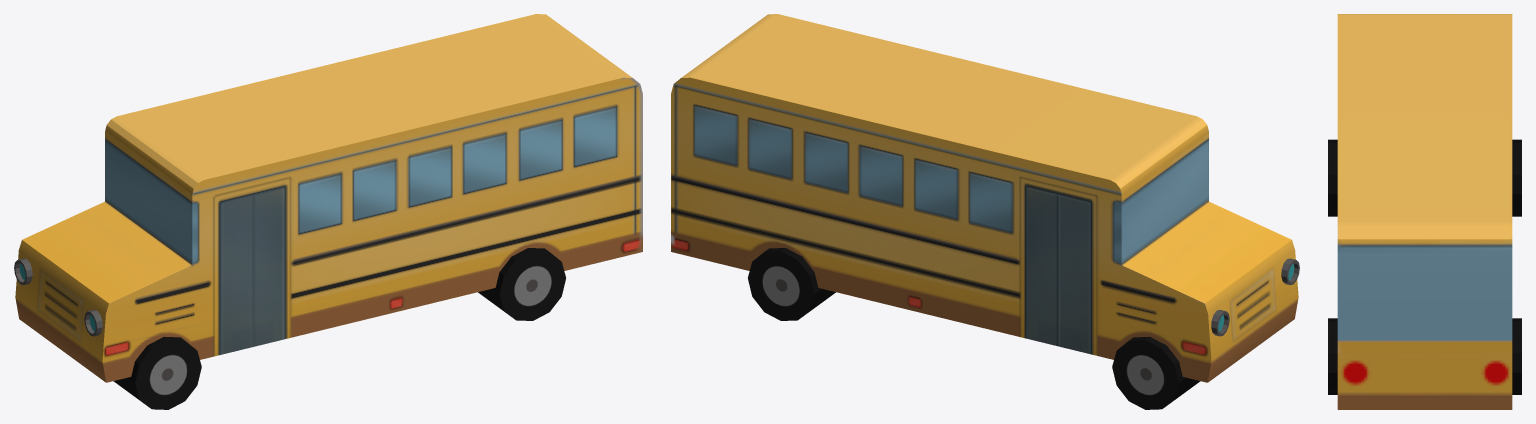
File: Bus1.fbx
3 views of the same model, side by side, from view 1: azimuth 30°, elevation 25°; view 2: azimuth 150°, elevation 25°; view 3: azimuth 270°, elevation 25° (orthographic).
Parts seen in each view (by area): view 1: Ob_Bus; view 2: Ob_Bus; view 3: Ob_Bus.
Part boxes in pixels (x1,y1,x2,y2): Ob_Bus: (14,14,642,409); Ob_Bus: (671,14,1299,409); Ob_Bus: (1328,14,1521,409).
Size of the model in its own units: 12.5 by 4.76 by 3.84.
